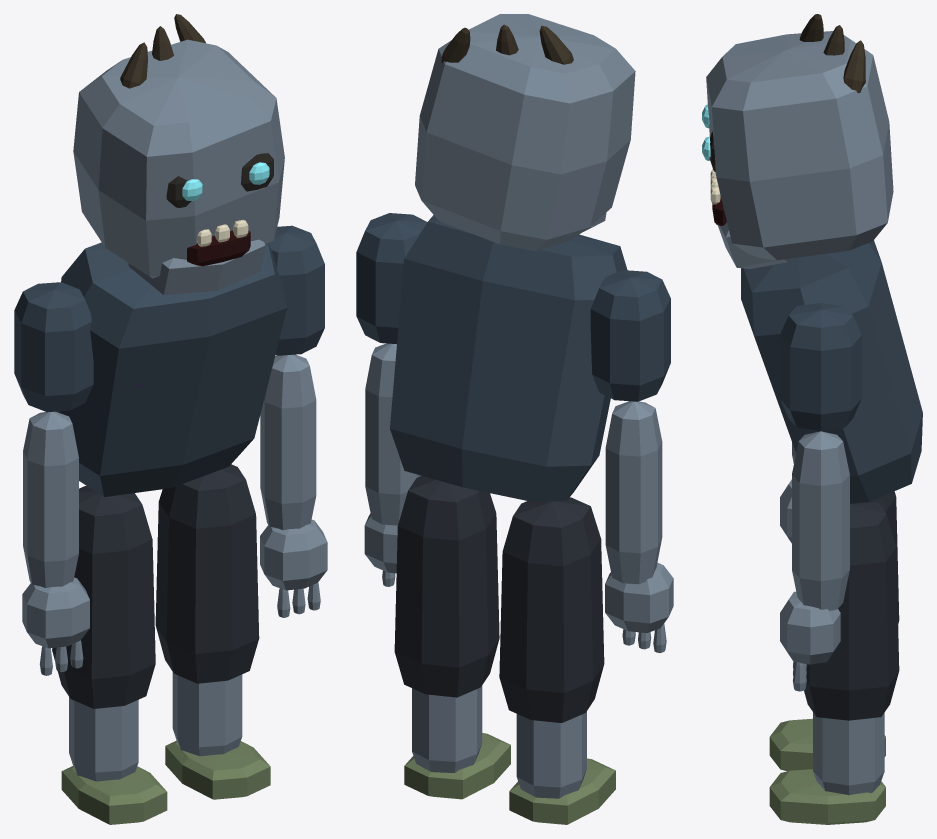
File: mon-crawler-2.glb
The picture shows the model from 3 angles, left to right: view 1: azimuth 30°, elevation 25°; view 2: azimuth 150°, elevation 25°; view 3: azimuth 270°, elevation 25°; orthographic projection.
Visible parts, largest first — view 1: head, torso, leg-left, leg-right, arm-right, arm-left; view 2: torso, head, leg-right, leg-left, arm-right, arm-left; view 3: head, leg-left, arm-left, torso, leg-right, arm-right.
Part boxes in pixels (x1=…): head: x1=73, y1=14, x2=284, y2=295; torso: x1=56, y1=242, x2=287, y2=496; leg-left: x1=155, y1=464, x2=270, y2=799; leg-right: x1=52, y1=486, x2=167, y2=824; arm-right: x1=14, y1=282, x2=93, y2=675; arm-left: x1=260, y1=225, x2=327, y2=617; torso: x1=390, y1=215, x2=627, y2=501; head: x1=415, y1=14, x2=635, y2=251; leg-right: x1=499, y1=497, x2=615, y2=824; leg-left: x1=394, y1=476, x2=510, y2=799; arm-right: x1=590, y1=270, x2=673, y2=652; arm-left: x1=356, y1=213, x2=427, y2=586; head: x1=702, y1=14, x2=893, y2=268; leg-left: x1=769, y1=501, x2=899, y2=824; arm-left: x1=780, y1=303, x2=861, y2=691; torso: x1=741, y1=240, x2=922, y2=503; leg-right: x1=769, y1=491, x2=899, y2=771; arm-right: x1=780, y1=442, x2=795, y2=543.
Bounding box in the file's own units: 0.9745 × 2.4 × 0.6303.
